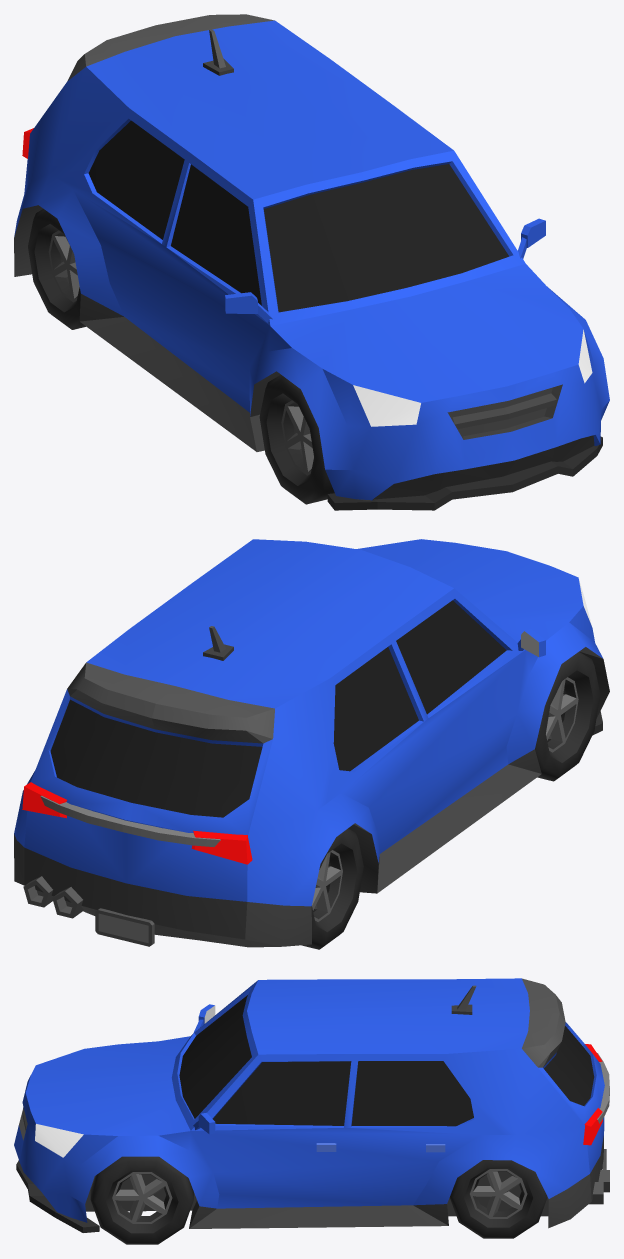
File: suv.glb
3 views of the same model, one above another, from view 1: azimuth 30°, elevation 25°; view 2: azimuth 150°, elevation 25°; view 3: azimuth 270°, elevation 25° (orthographic). The views are drawn at different scales.
Visible parts, largest first — view 1: suv, wheels.007, wheels.006; view 2: suv, wheels.007, wheels.006; view 3: suv, wheels.053, wheels.052.
Part boxes in pixels (<box>): suv: <box>14,14,609,510</box>; wheels.007: <box>259,375,334,504</box>; wheels.006: <box>28,209,85,329</box>; suv: <box>14,539,609,947</box>; wheels.007: <box>535,652,600,781</box>; wheels.006: <box>302,828,363,949</box>; suv: <box>14,978,609,1232</box>; wheels.053: <box>90,1156,193,1244</box>; wheels.052: <box>449,1160,547,1238</box>.
Size of the model in its own units: 2.88 by 2.35 by 6.1.
4 materials, 4 textured.
